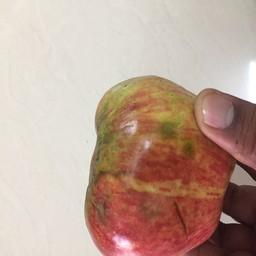Bad_apple: (82, 62, 228, 251)
